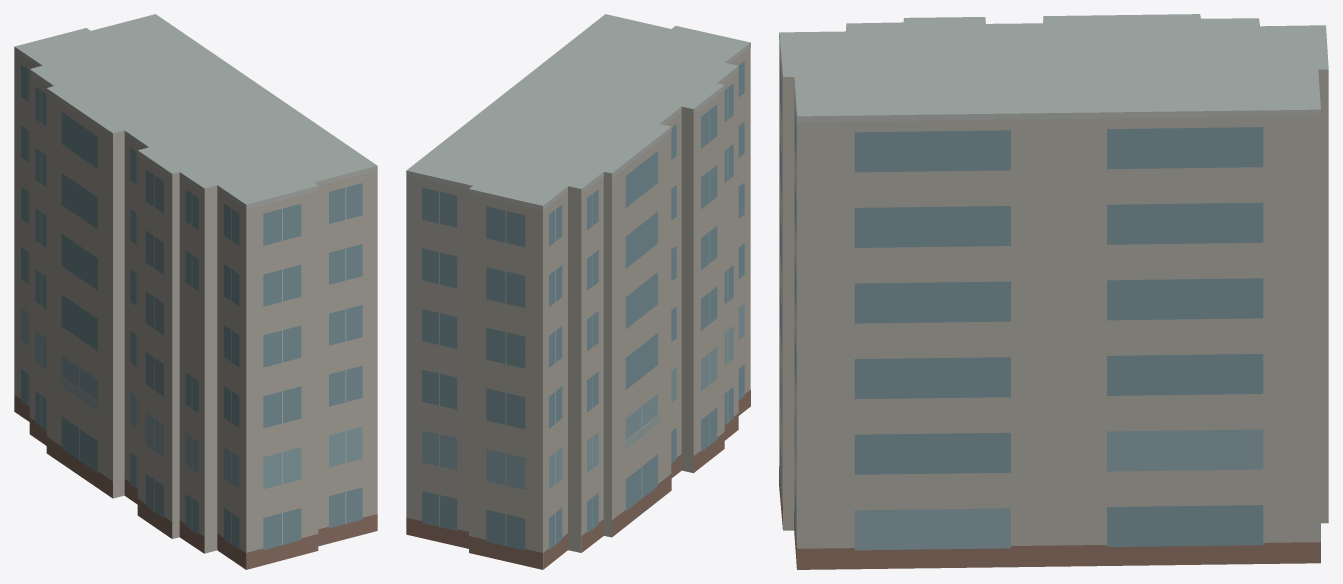
The model's file is survey-upis-33044989.glb.
3 renders of one model, left to right at view 1: azimuth 30°, elevation 25°; view 2: azimuth 150°, elevation 25°; view 3: azimuth 270°, elevation 25°, orthographic. The views are drawn at different scales.
Visible parts, largest first — view 1: survey-upis-33044989.tmp; view 2: survey-upis-33044989.tmp; view 3: survey-upis-33044989.tmp.
Boxes of the visible parts, x1=… form: survey-upis-33044989.tmp: x1=14, y1=14, x2=377, y2=569; survey-upis-33044989.tmp: x1=406, y1=14, x2=750, y2=569; survey-upis-33044989.tmp: x1=779, y1=14, x2=1328, y2=569.
Size of the model in its own units: 8.86 by 18.3 by 20.11.
